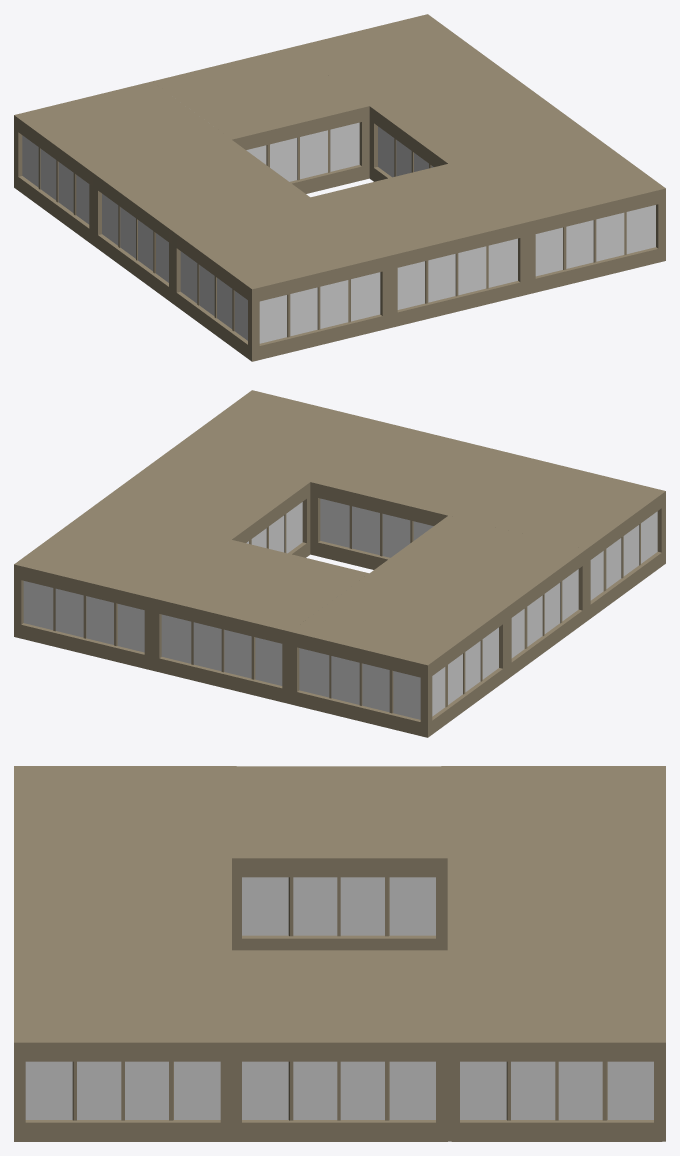
File: skyscraper large mid section_copper.fbx
3 views of the same model, one above another, from view 1: azimuth 30°, elevation 25°; view 2: azimuth 150°, elevation 25°; view 3: azimuth 270°, elevation 25° (orthographic). The views are drawn at different scales.
Visible parts, largest first — view 1: mid section skyscraper, mid section skyscraper.002, mid section skyscraper.001, mid section skyscraper.007, mid section skyscraper.005, mid section skyscraper.006, mid section skyscraper.004, mid section skyscraper.003; view 2: mid section skyscraper.005, mid section skyscraper.007, mid section skyscraper.003, mid section skyscraper.001, mid section skyscraper, mid section skyscraper.006, mid section skyscraper.004, mid section skyscraper.002; view 3: mid section skyscraper.003, mid section skyscraper.004, mid section skyscraper.002, mid section skyscraper.006, mid section skyscraper.007, mid section skyscraper.001, mid section skyscraper.005, mid section skyscraper.
Part boxes in pixels (box(x1,y1,x2,y2)): mid section skyscraper: box(172, 197, 389, 361); mid section skyscraper.002: box(448, 130, 665, 294); mid section skyscraper.001: box(310, 164, 527, 327); mid section skyscraper.007: box(152, 48, 369, 193); mid section skyscraper.005: box(14, 81, 231, 245); mid section skyscraper.006: box(93, 139, 310, 302); mid section skyscraper.004: box(369, 72, 586, 181); mid section skyscraper.003: box(290, 14, 507, 105); mid section skyscraper.005: box(290, 573, 507, 737); mid section skyscraper.007: box(152, 540, 368, 703); mid section skyscraper.003: box(14, 506, 231, 670); mid section skyscraper.001: box(310, 424, 527, 569); mid section skyscraper: box(448, 457, 665, 621); mid section skyscraper.006: box(370, 515, 586, 678); mid section skyscraper.004: box(94, 448, 310, 557); mid section skyscraper.002: box(172, 390, 389, 481); mid section skyscraper.003: box(448, 950, 665, 1141); mid section skyscraper.004: box(230, 950, 447, 1141); mid section skyscraper.002: box(14, 950, 231, 1141); mid section skyscraper.006: box(230, 766, 447, 950); mid section skyscraper.007: box(447, 858, 665, 950); mid section skyscraper.001: box(14, 858, 231, 950); mid section skyscraper.005: box(448, 766, 665, 858); mid section skyscraper: box(14, 766, 231, 858).
Bounding box in the file's own units: 3884 × 650 × 3871.
